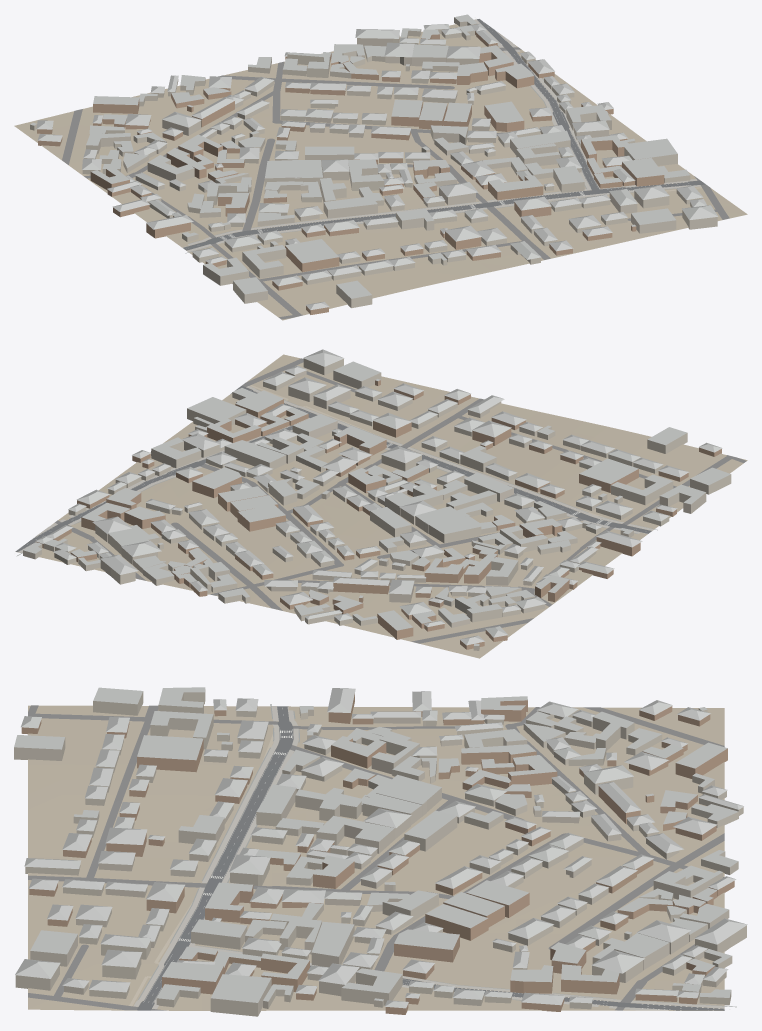
Rendered from bolak_-5_6.glb.
3 views of the same model, one above another, from view 1: azimuth 30°, elevation 25°; view 2: azimuth 150°, elevation 25°; view 3: azimuth 270°, elevation 25° (orthographic). The views are drawn at different scales.
Parts seen in each view (by area): view 1: Tom_Shifer, Yer_Tuproq-col, Devor_Suvoq-col, Devor_Gisht-col, Yol_Mahalla-col, Yol_Asfalt-col, Trotuar; view 2: Tom_Shifer, Yer_Tuproq-col, Devor_Suvoq-col, Devor_Gisht-col, Yol_Mahalla-col, Yol_Asfalt-col, Trotuar; view 3: Tom_Shifer, Yer_Tuproq-col, Devor_Suvoq-col, Devor_Gisht-col, Yol_Mahalla-col, Yol_Asfalt-col, Trotuar, Ariq, Yol_Chiziq.
Part boxes in pixels (<box>): Tom_Shifer: <box>30,14,718,310</box>; Yer_Tuproq-col: <box>14,24,747,320</box>; Devor_Suvoq-col: <box>30,17,717,308</box>; Devor_Gisht-col: <box>37,31,664,314</box>; Yol_Mahalla-col: <box>62,46,729,319</box>; Yol_Asfalt-col: <box>183,19,705,250</box>; Trotuar: <box>182,19,700,251</box>; Tom_Shifer: <box>23,349,730,645</box>; Yer_Tuproq-col: <box>15,354,747,658</box>; Devor_Suvoq-col: <box>23,358,731,650</box>; Devor_Gisht-col: <box>35,380,721,649</box>; Yol_Mahalla-col: <box>54,358,746,643</box>; Yol_Asfalt-col: <box>15,386,651,551</box>; Trotuar: <box>18,386,653,552</box>; Tom_Shifer: <box>14,687,747,1008</box>; Yer_Tuproq-col: <box>28,705,724,1010</box>; Devor_Suvoq-col: <box>14,689,746,1016</box>; Devor_Gisht-col: <box>21,694,734,1014</box>; Yol_Mahalla-col: <box>28,705,724,1010</box>; Yol_Asfalt-col: <box>137,706,724,1010</box>; Trotuar: <box>133,706,724,1010</box>; Ariq: <box>137,704,736,1007</box>; Yol_Chiziq: <box>143,708,730,1010</box>.
Size of what is drawn, in the model's own units: 420 by 16.81 by 421.
